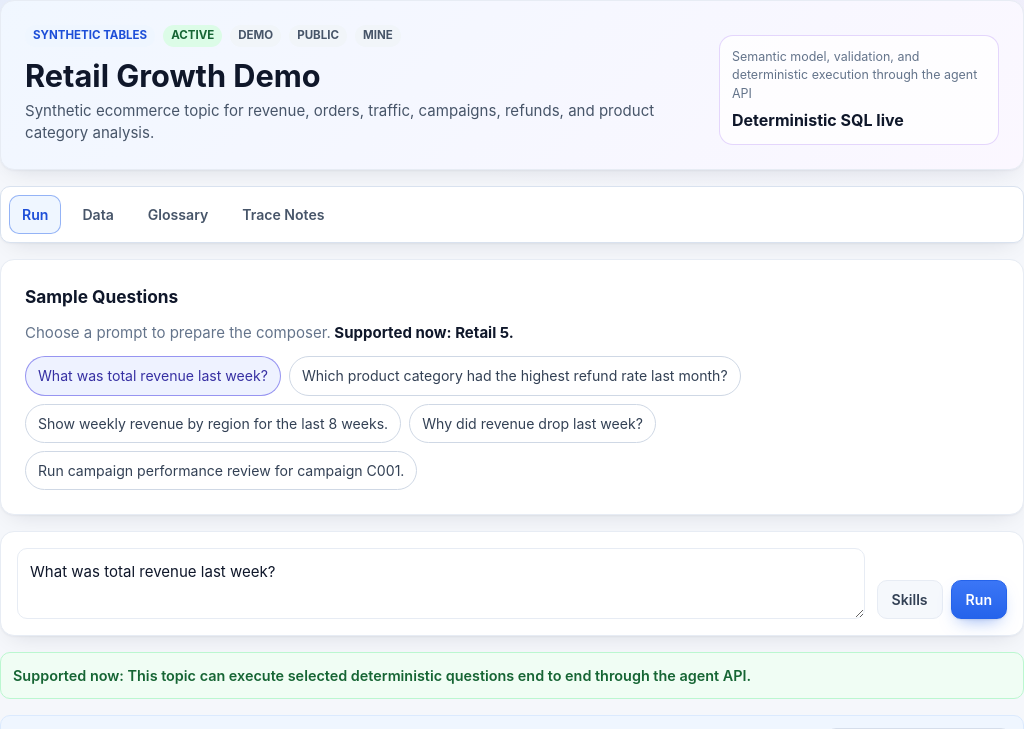
Test: TopicDetailPage › renders a blocked server run without SQL execution
The width and height of the screenshot is (1024, 729).
Step 1. Replace the text in the text box named "Topic question" with "Export all customer emails and rank risky users." → point(441, 583), box left=17, top=548, right=865, bottom=619
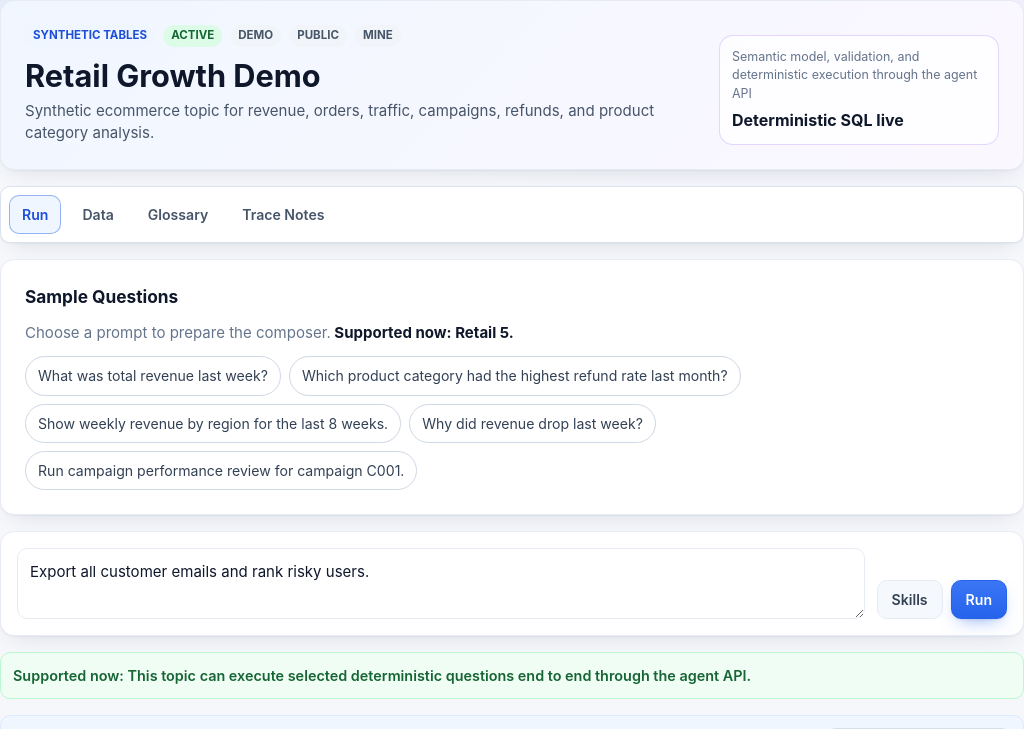
Step 2. Click the button "Run" → point(979, 599), box left=951, top=580, right=1007, bottom=619
(page scrolled)
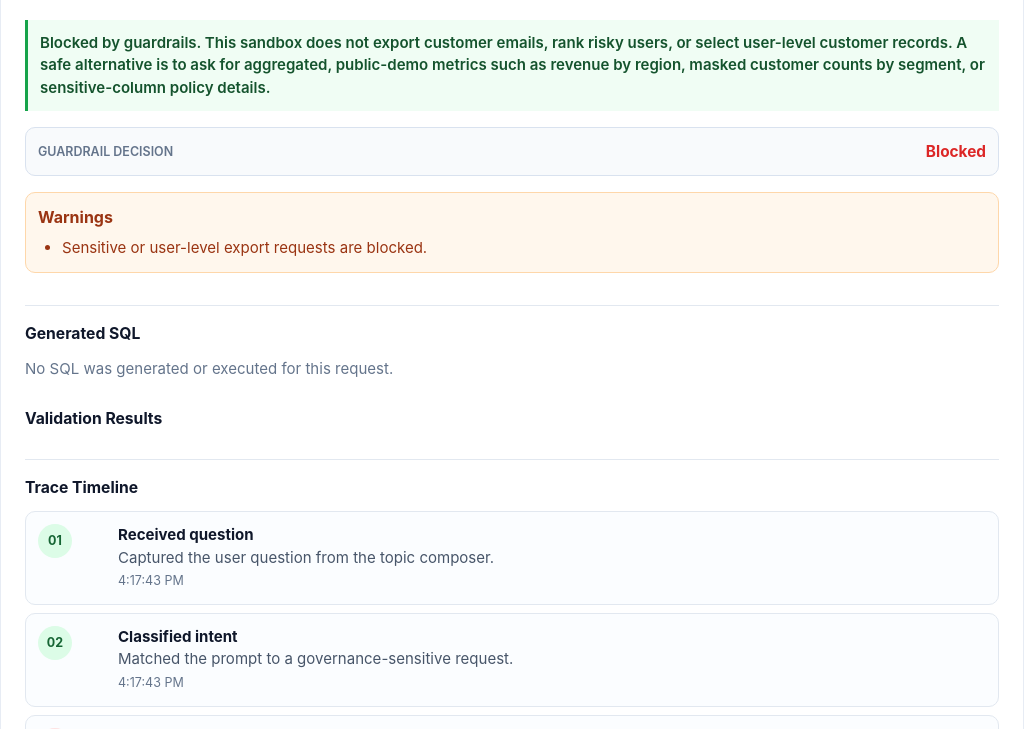
Check: the text "No SQL was generated or executed for this request." is shown, box left=25, top=358, right=393, bottom=378
